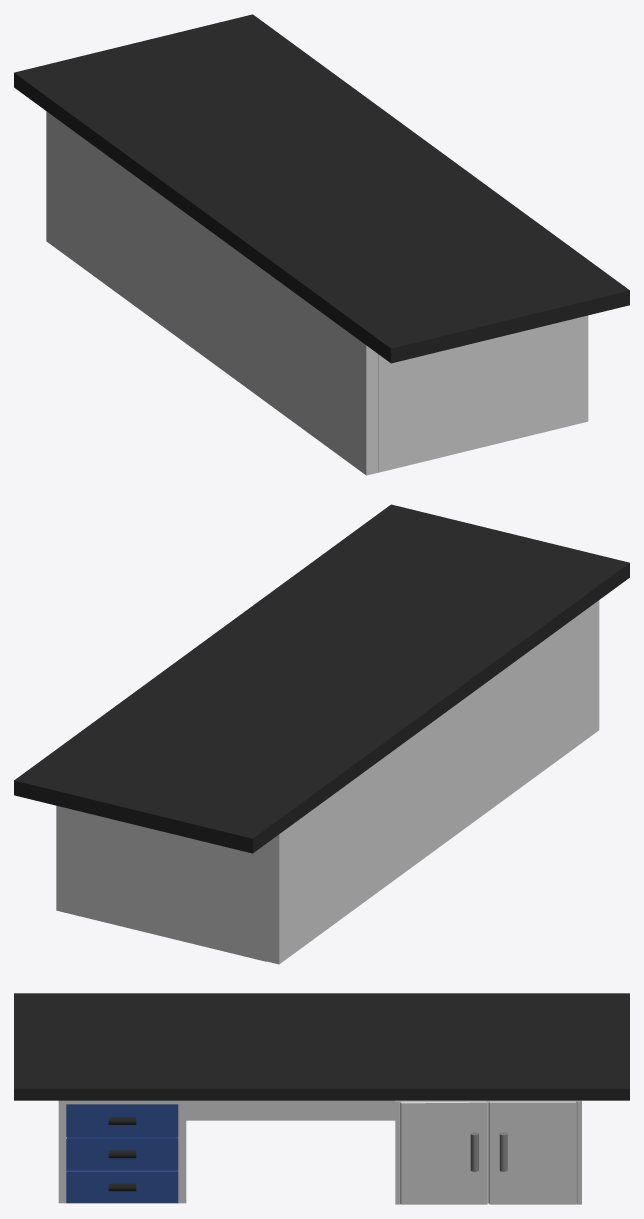
Rendered from pp_lab_table.glb.
3 renders of one model, top to bottom at view 1: azimuth 30°, elevation 25°; view 2: azimuth 150°, elevation 25°; view 3: azimuth 270°, elevation 25°, orthographic. The views are drawn at different scales.
Visible parts, largest first — view 1: Cylinder.001; view 2: Cylinder.001; view 3: Cylinder.001.
Part boxes in pixels (x1,y1,x2,y2): Cylinder.001: [14, 14, 629, 475]; Cylinder.001: [14, 504, 629, 964]; Cylinder.001: [14, 993, 629, 1204].
Size of the model in its own units: 1.97 by 1.17 by 5.4.
